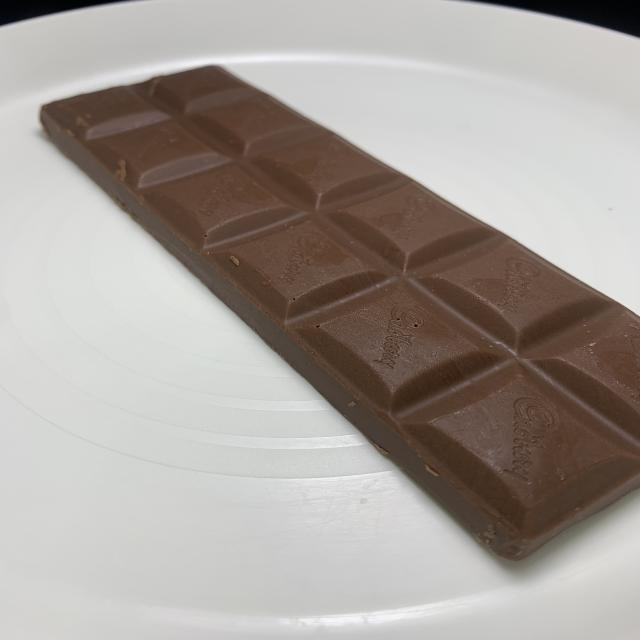Chocolate: (44, 59, 640, 565)
